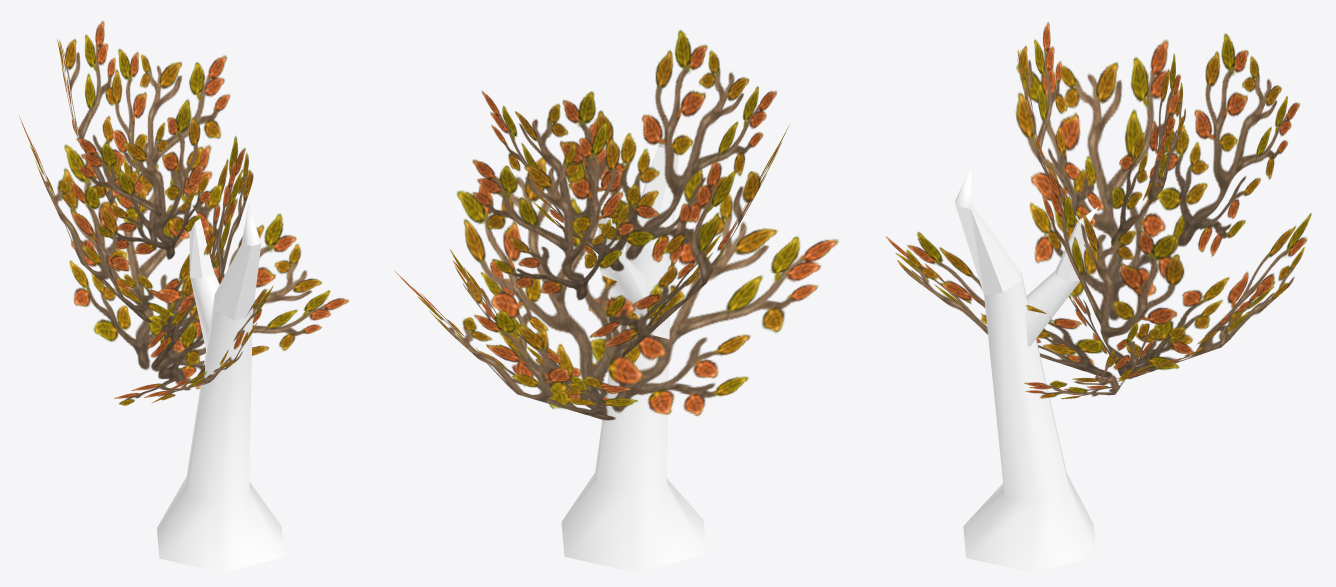
3 renders of one model, left to right at view 1: azimuth 30°, elevation 25°; view 2: azimuth 150°, elevation 25°; view 3: azimuth 270°, elevation 25°, orthographic. The views are drawn at different scales.
Parts seen in each view (by area): view 1: branches_autumn, trunk_autumn; view 2: branches_autumn, trunk_autumn; view 3: branches_autumn, trunk_autumn.
Part boxes in pixels (x1,y1,x2,y2): branches_autumn: [19, 20, 348, 405]; trunk_autumn: [157, 203, 284, 572]; branches_autumn: [395, 30, 838, 420]; trunk_autumn: [561, 105, 706, 572]; branches_autumn: [885, 22, 1311, 399]; trunk_autumn: [955, 165, 1098, 572].
Bounding box in the file's own units: 213 × 341 × 281.
Materials: 2 (1 with a texture image).
